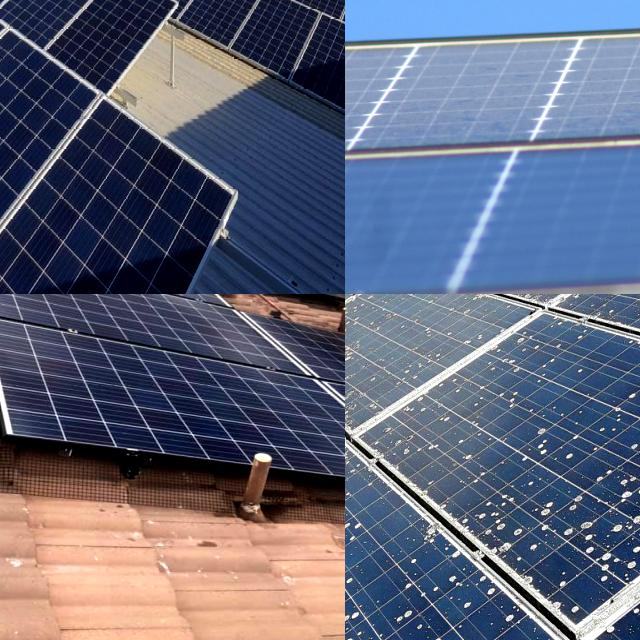bird: (536, 496, 600, 550), (530, 406, 582, 470), (406, 544, 466, 598), (345, 564, 387, 640), (472, 487, 514, 547), (345, 495, 370, 550), (596, 554, 635, 584), (625, 476, 640, 537), (345, 440, 366, 481), (345, 524, 362, 556)
crack: (0, 308, 345, 512), (0, 102, 244, 294), (0, 0, 142, 294), (0, 0, 129, 229), (0, 294, 327, 381), (33, 0, 179, 121), (0, 294, 284, 346), (0, 294, 213, 341), (0, 0, 115, 79), (293, 3, 345, 160), (231, 0, 314, 97), (179, 0, 256, 89)
dust: (391, 42, 547, 134), (563, 23, 640, 127), (345, 49, 405, 148)
